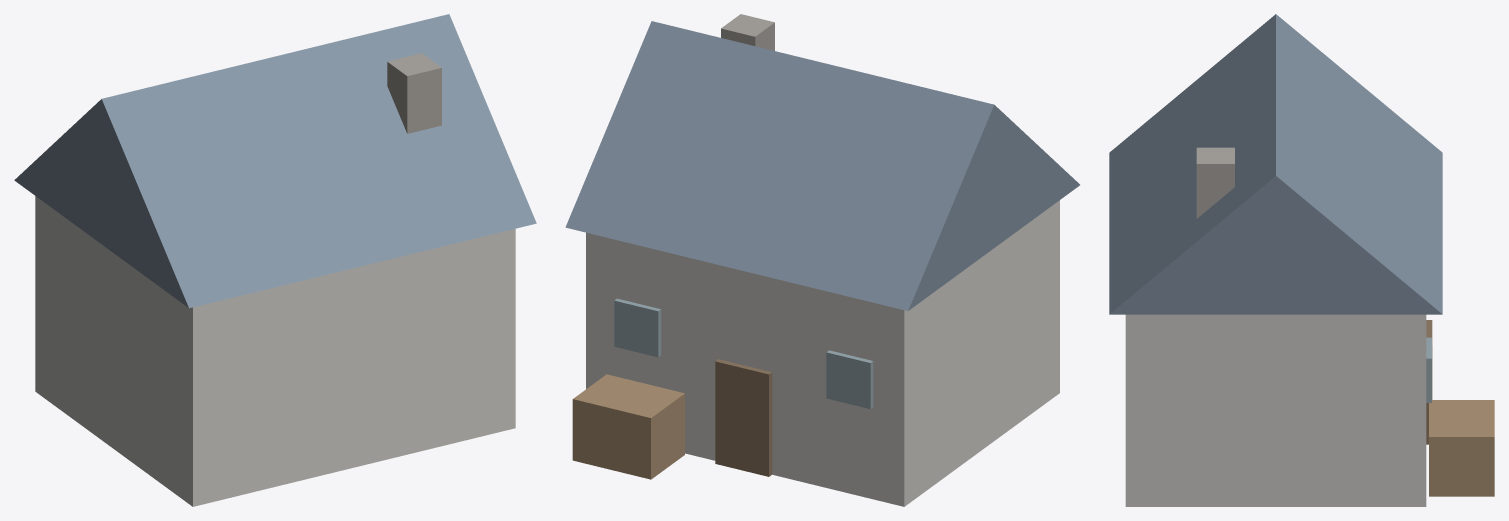
3 views of the same model, side by side, from view 1: azimuth 30°, elevation 25°; view 2: azimuth 150°, elevation 25°; view 3: azimuth 270°, elevation 25° (orthographic). The views are drawn at different scales.
Visible parts, largest first — view 1: architecture.house_blue; view 2: architecture.house_blue; view 3: architecture.house_blue.
Boxes of the visible parts, box(x1,y1,x2,y2) form: architecture.house_blue: box(14, 14, 536, 506); architecture.house_blue: box(565, 14, 1079, 506); architecture.house_blue: box(1109, 14, 1494, 506).
Size of the model in its own units: 7 by 6.8 by 7.05.
